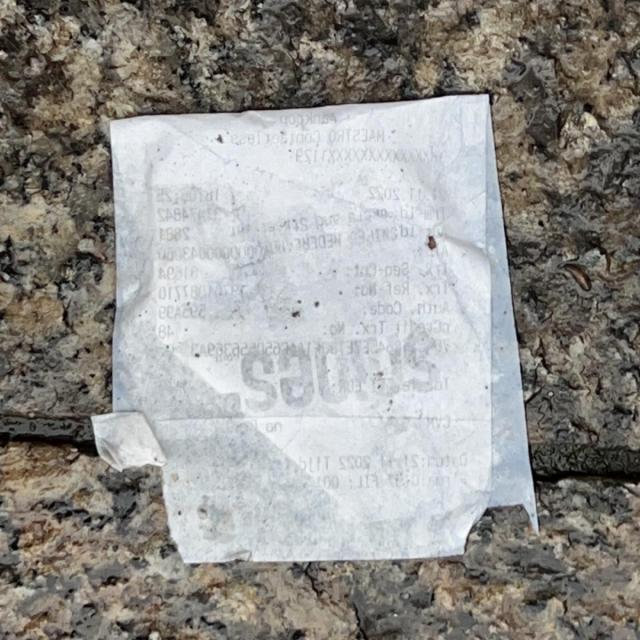Paper: (83, 90, 546, 570)
